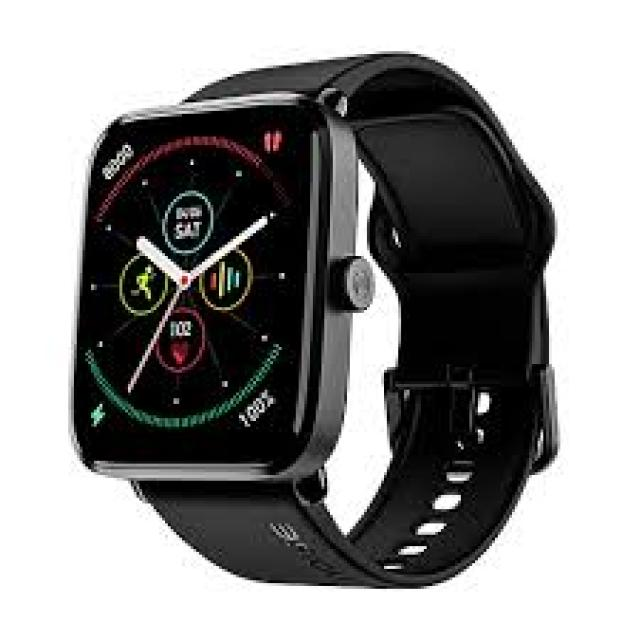objects: (74, 49, 552, 586)
